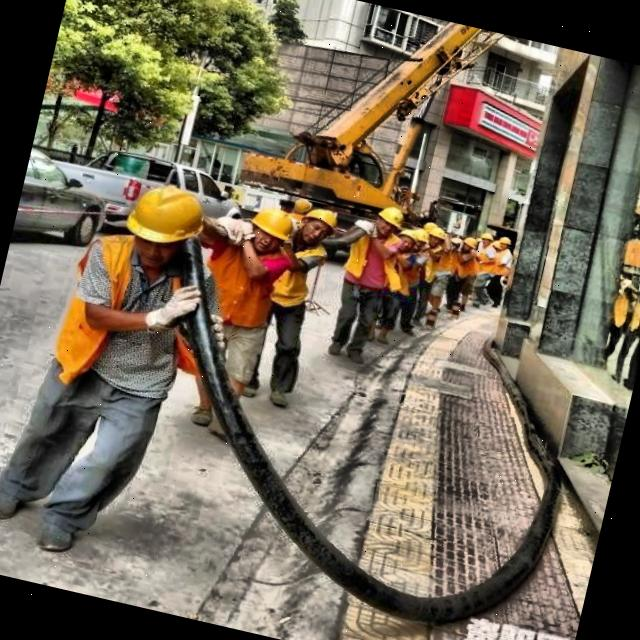helmet: (110, 175, 214, 273), (242, 200, 296, 260), (298, 202, 342, 251), (372, 202, 410, 243), (391, 222, 422, 254), (422, 223, 449, 252), (461, 234, 480, 254), (478, 230, 495, 247), (497, 234, 511, 251)
